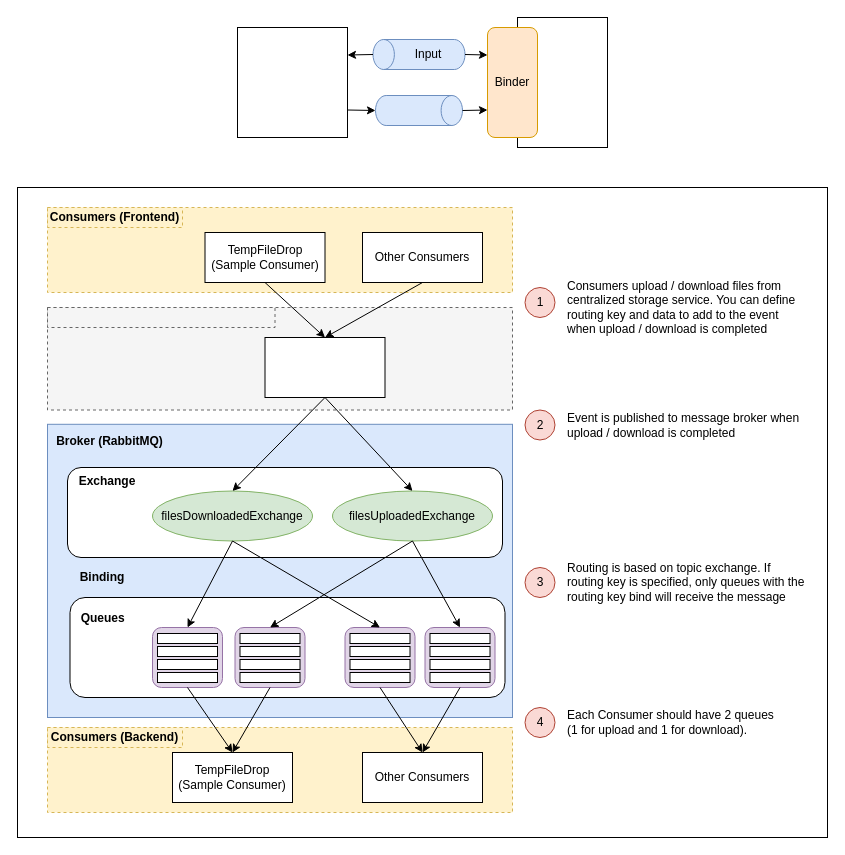
Image size: 845x855. Some labels were removed from this diagram. The box of each missing label's shape, as (x1, y1, x2, y2) in pixels:
Output: (374, 94, 462, 126)
Producer (Centralized Storage Service: (46, 306, 275, 328)
RabbitMQ Middleware: (516, 16, 608, 148)
Spring Cloud Stream Application: (236, 26, 348, 138)
Storage Service: (264, 336, 385, 398)
